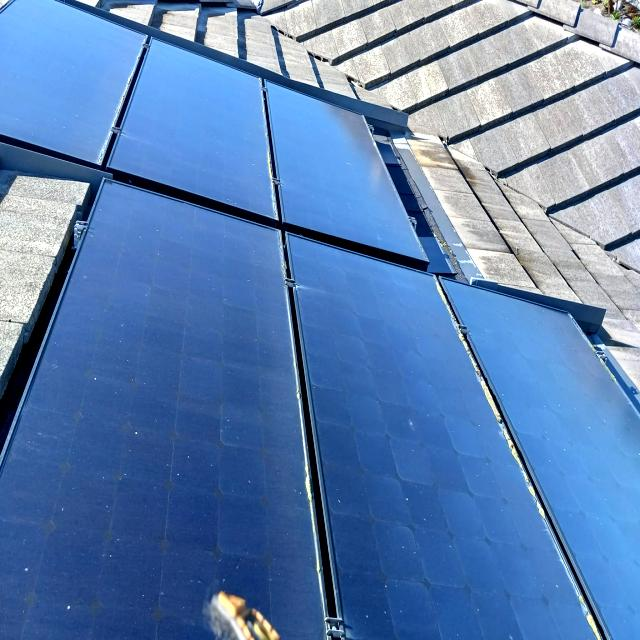dust: (105, 224, 263, 558), (322, 278, 449, 552), (0, 496, 99, 623), (454, 536, 530, 640)
